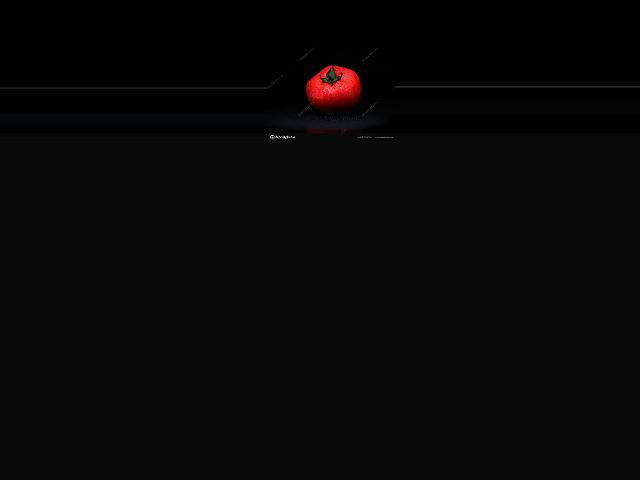tomato: (305, 64, 362, 113)
